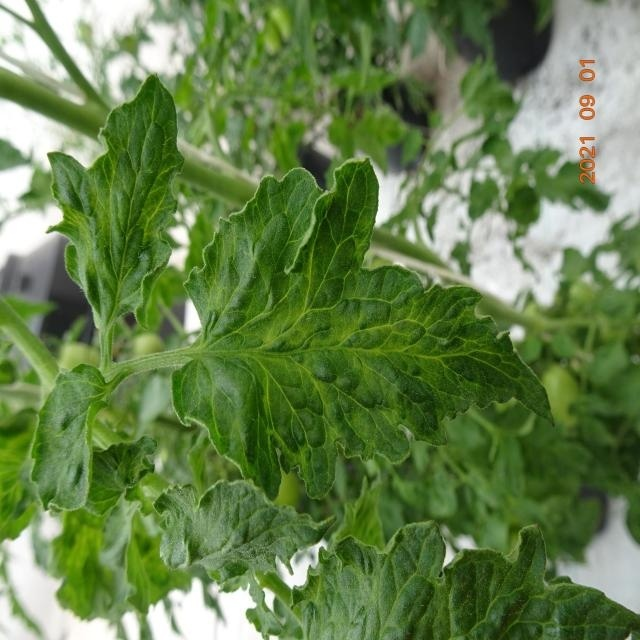T_L_R: (174, 159, 551, 498), (294, 523, 640, 639), (50, 76, 185, 373), (156, 481, 335, 584), (32, 366, 114, 511)
